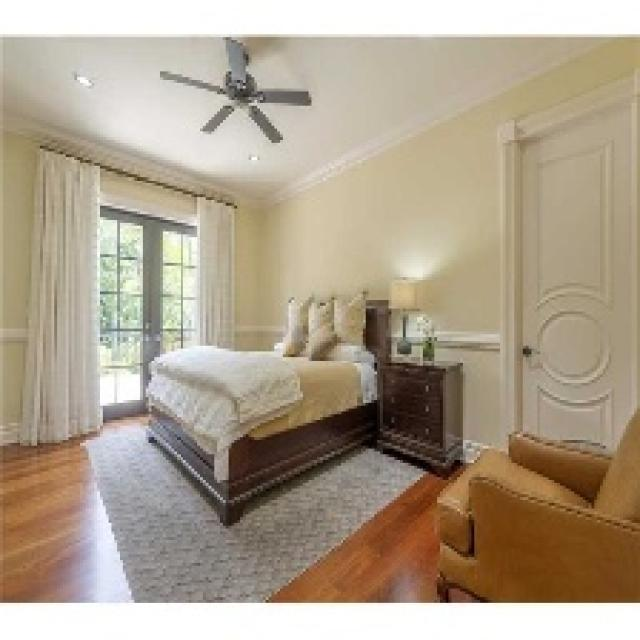Bed: (143, 291, 388, 526)
